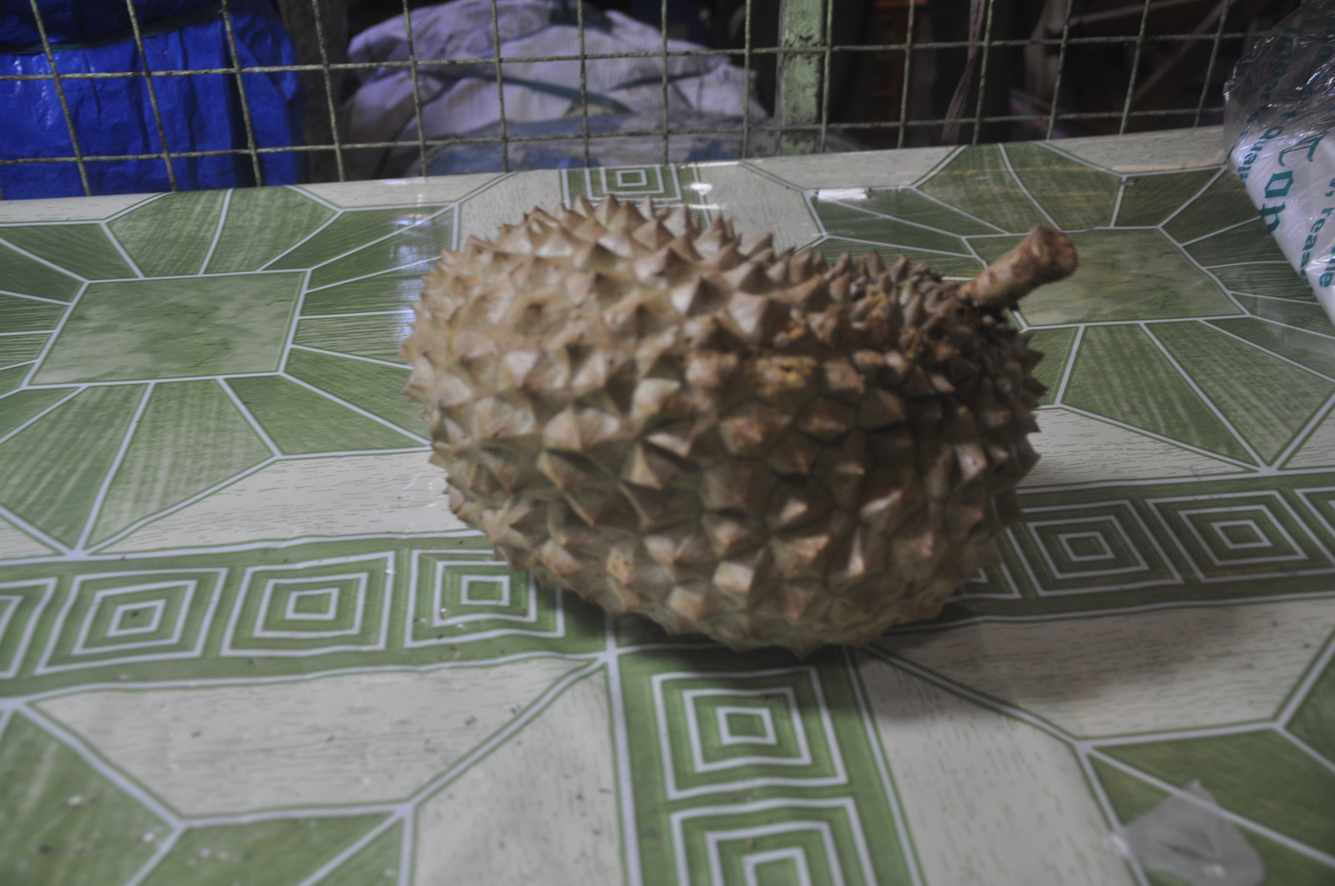mature: (402, 194, 1078, 655)
